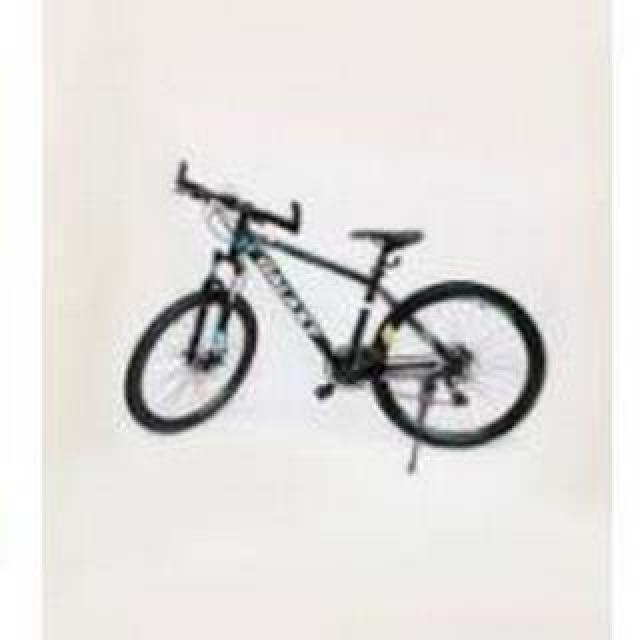Person: (117, 160, 547, 476)
